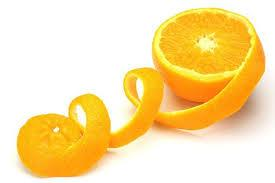Organic: (5, 5, 275, 183)
